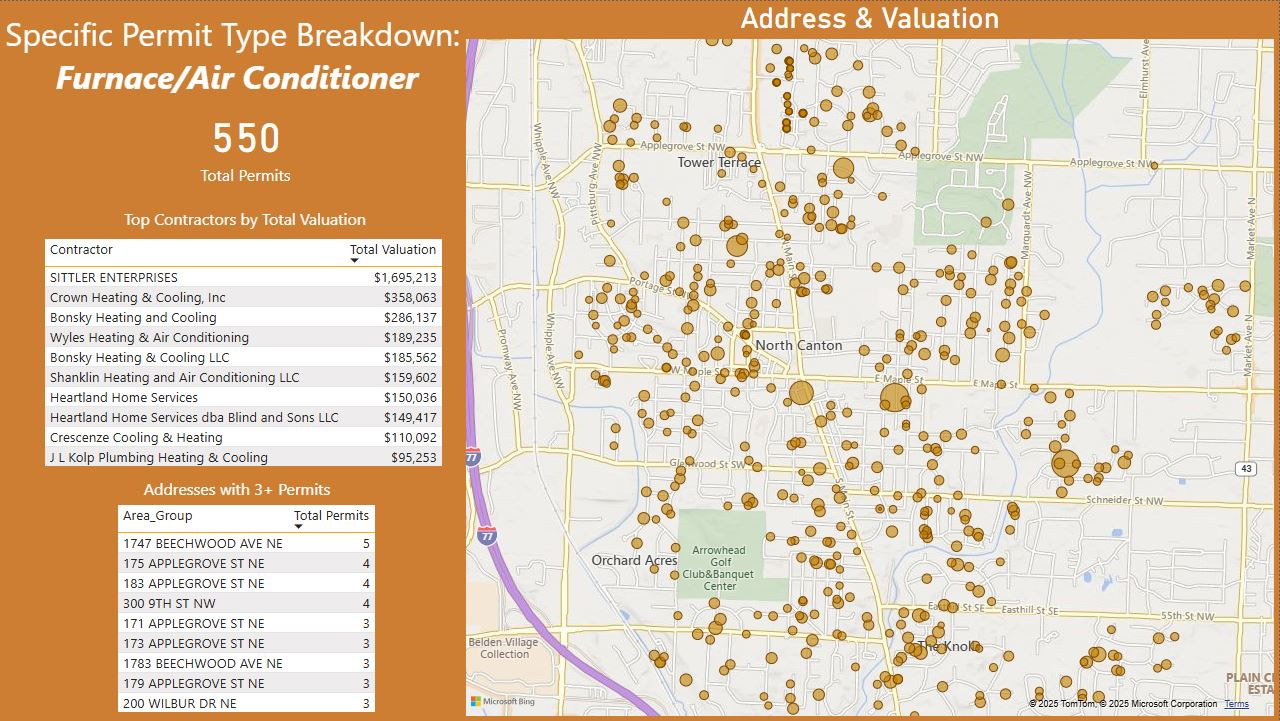

This screenshot's page, from the dashboard's own definition file:
{"tool":"powerbi","page":{"name":"Permit Type Map","canvas":[1280,720],"ordinal":3},"visuals":[{"type":"map","title":"Address & Valuation","fields":{"Category":["permits_gold.Address"],"Size":["permits_gold.Total Valuation"],"Series":["permits_gold.Permit Type"]},"box":[461.7,0,818.3,719.6],"z":0},{"type":"tableEx","fields":{"Values":["permits_gold.Area_Group","permits_gold.Total Permits"]},"box":[113.1,498.6,268.4,221],"z":1000},{"type":"card","fields":{"Values":["permits_gold.Total Permits"]},"box":[150,98.8,192.5,87.5],"z":2000},{"type":"tableEx","fields":{"Values":["permits_gold.Contractor","permits_gold.Total Valuation"]},"box":[40,232.5,412.5,241.2],"z":3000},{"type":"textbox","box":[0,5.1,476.2,103],"z":4000},{"type":"textbox","box":[7.5,202,476.2,40],"z":5000},{"type":"textbox","box":[0,472,476.2,40],"z":6000}]}

Visuals, with their boxes in screenshot pixels (x1, y1, x2, y2), scaled from the page's 1280x720 canvas onto the 1280x721 screenshot:
"Address & Valuation" map: Rect(462, 0, 1279, 720)
tableEx - permits_gold.Area_Group x permits_gold.Total Permits: Rect(113, 499, 382, 720)
card - permits_gold.Total Permits: Rect(150, 99, 342, 187)
tableEx - permits_gold.Contractor x permits_gold.Total Valuation: Rect(40, 233, 452, 474)
textbox: Rect(0, 5, 476, 108)
textbox: Rect(8, 202, 484, 242)
textbox: Rect(0, 473, 476, 513)
